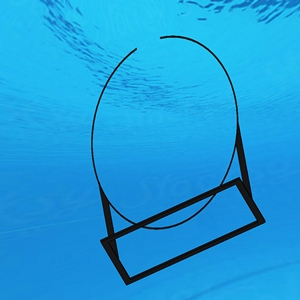circle: (87, 32, 271, 288)
